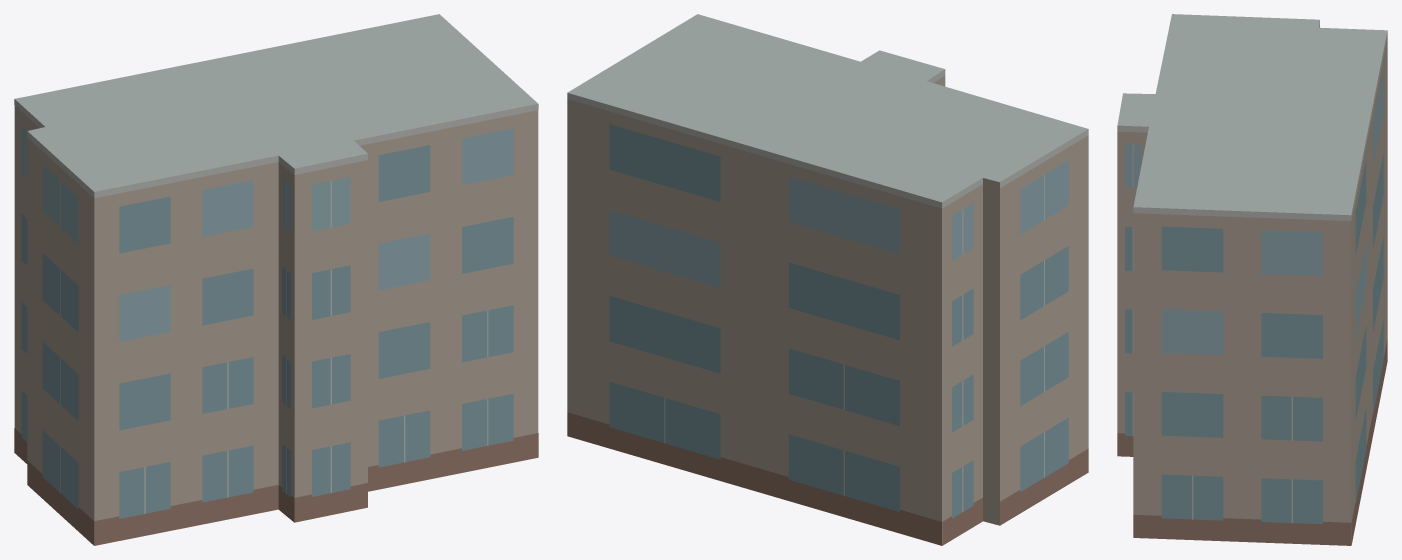
File: survey-upis-32768223.glb
The picture shows the model from 3 angles, left to right: view 1: azimuth 30°, elevation 25°; view 2: azimuth 150°, elevation 25°; view 3: azimuth 270°, elevation 25°; orthographic projection. The views are drawn at different scales.
Visible parts, largest first — view 1: survey-upis-32768223.tmp; view 2: survey-upis-32768223.tmp; view 3: survey-upis-32768223.tmp.
Boxes of the visible parts, left/top/right/bottom form: survey-upis-32768223.tmp: left=14, top=14, right=538, bottom=545; survey-upis-32768223.tmp: left=567, top=14, right=1088, bottom=545; survey-upis-32768223.tmp: left=1117, top=14, right=1387, bottom=545.
Size of the model in its own units: 17.69 by 13.55 by 10.04.
